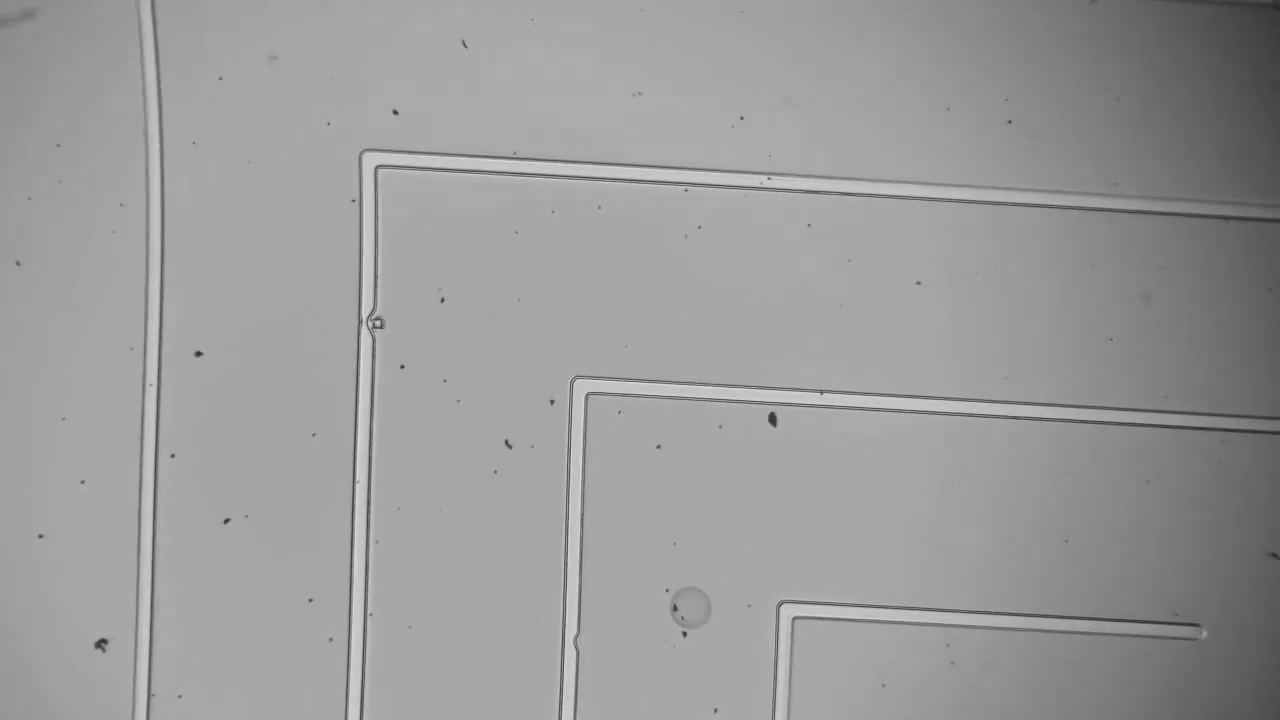edge_bite: (351, 295, 389, 347), (557, 619, 588, 658)
